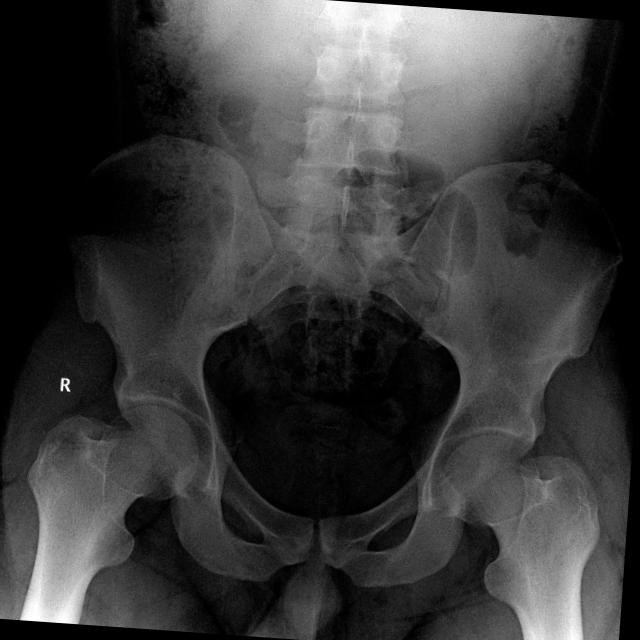normal-left: (441, 435, 600, 640)
normal-right: (19, 404, 197, 624)
